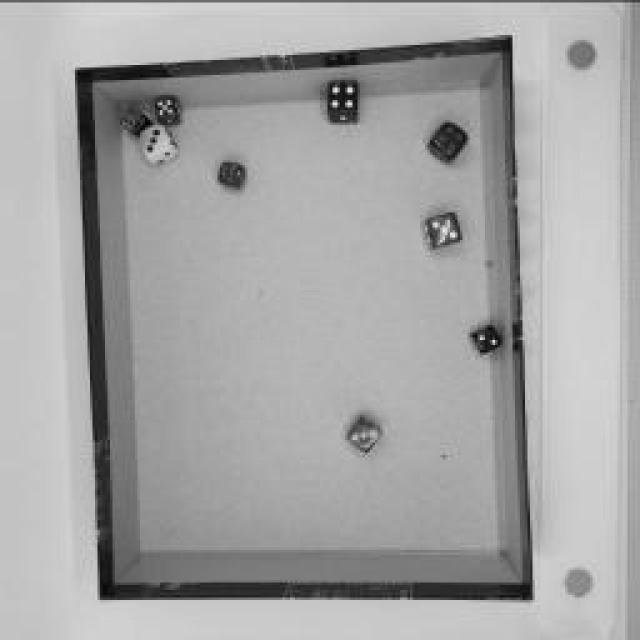dice_2: (471, 323, 504, 355)
dice_3: (421, 209, 469, 249), (347, 416, 385, 454), (139, 124, 179, 158)
dice_4: (429, 120, 471, 162), (325, 80, 363, 122)
dice_5: (155, 95, 185, 125)
dice_6: (216, 158, 249, 188), (119, 106, 149, 132)
